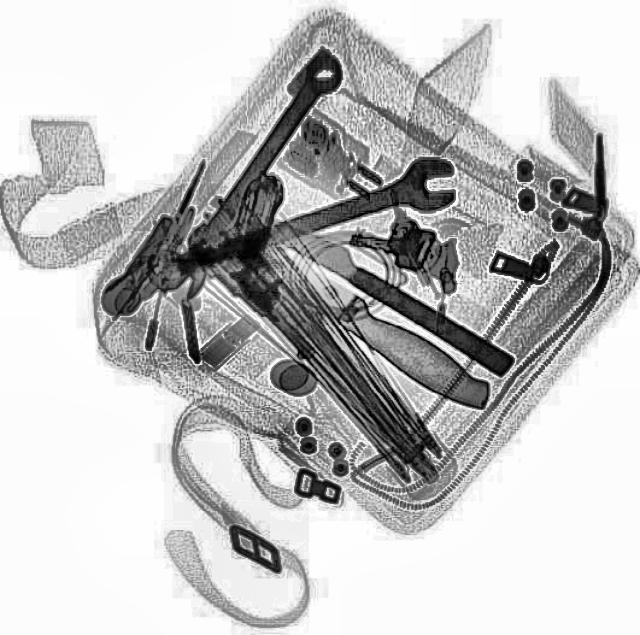Gun: (178, 166, 386, 360)
Knife: (190, 194, 498, 422), (210, 174, 518, 378)
Wrench: (148, 45, 352, 300), (136, 150, 466, 298)
